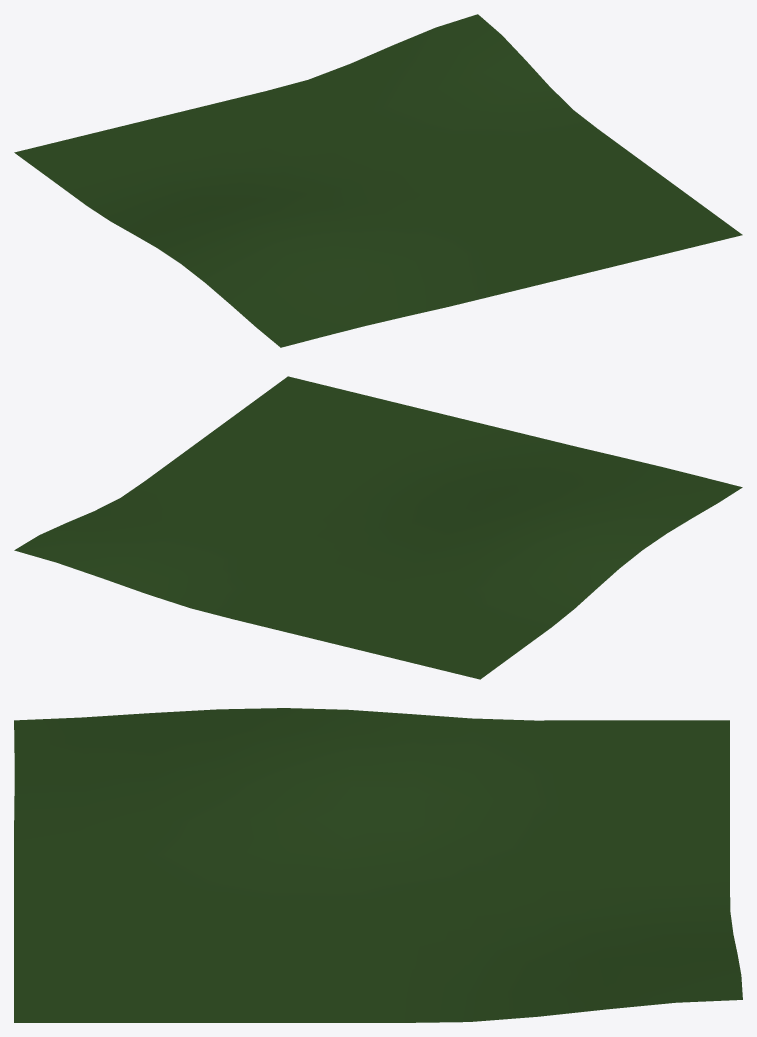
The model's file is Sol_Proto.fbx.
The picture shows the model from 3 angles, top to bottom: view 1: azimuth 30°, elevation 25°; view 2: azimuth 150°, elevation 25°; view 3: azimuth 270°, elevation 25°; orthographic projection. The views are drawn at different scales.
Visible parts, largest first — view 1: Plane; view 2: Plane; view 3: Plane.
Part boxes in pixels (x1,y1,x2,y2): Plane: [14, 14, 742, 347]; Plane: [14, 376, 742, 679]; Plane: [14, 708, 742, 1022].
Size of the model in its own units: 816 by 34.17 by 819.
